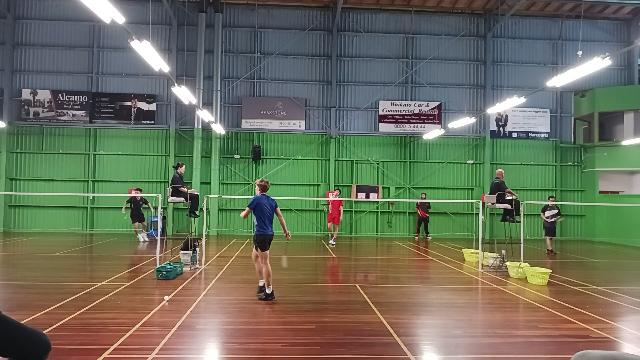Shuttlecock: (162, 294, 172, 304)
